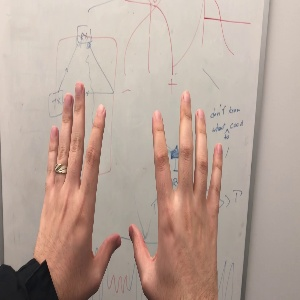hand: (129, 91, 224, 300), (35, 84, 121, 293)
